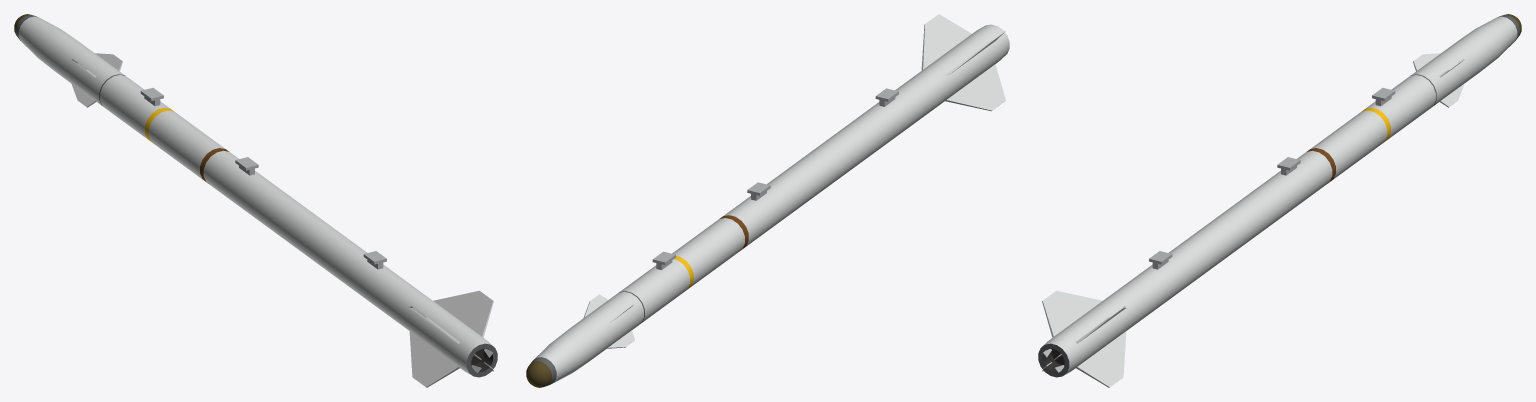
The model's file is aim9x.glb.
3 views of the same model, side by side, from view 1: azimuth 30°, elevation 25°; view 2: azimuth 150°, elevation 25°; view 3: azimuth 330°, elevation 25° (orthographic).
Parts seen in each view (by area): view 1: aim9x; view 2: aim9x; view 3: aim9x.
Part boxes in pixels (x1,y1,x2,y2): aim9x: (14, 14, 497, 387); aim9x: (526, 14, 1009, 387); aim9x: (1038, 14, 1521, 387).
Bounding box in the file's own units: 0.2567 × 0.2567 × 3.04.
